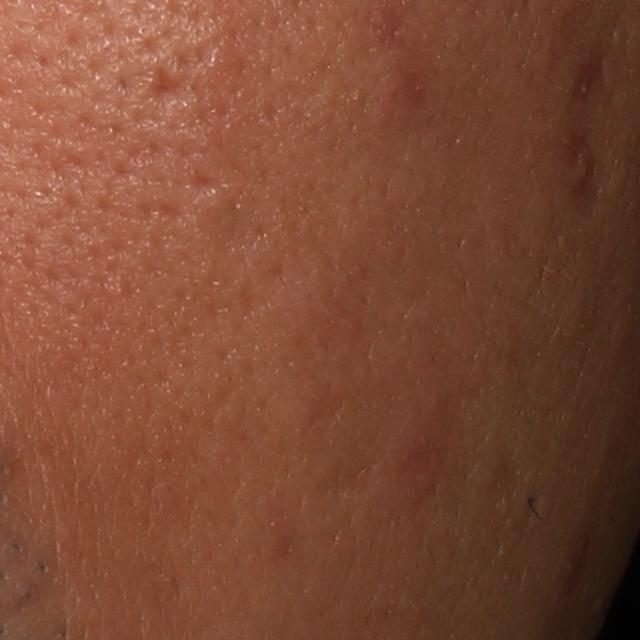atrophic_scar: (562, 128, 602, 206), (143, 60, 198, 114), (188, 162, 217, 193)
